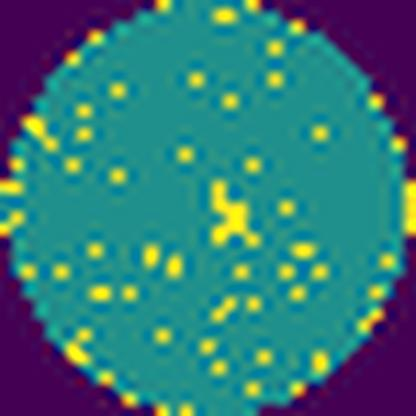Center: (205, 178, 262, 254)
